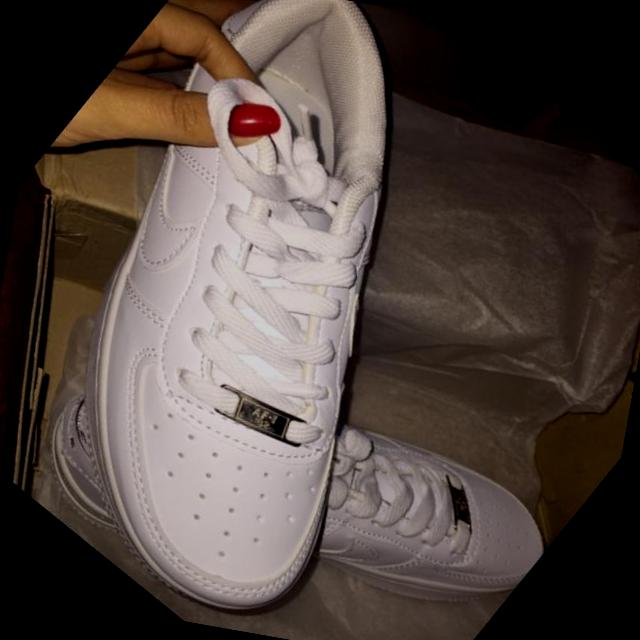nike_fake_airforce: (0, 0, 640, 640), (0, 210, 599, 640)
